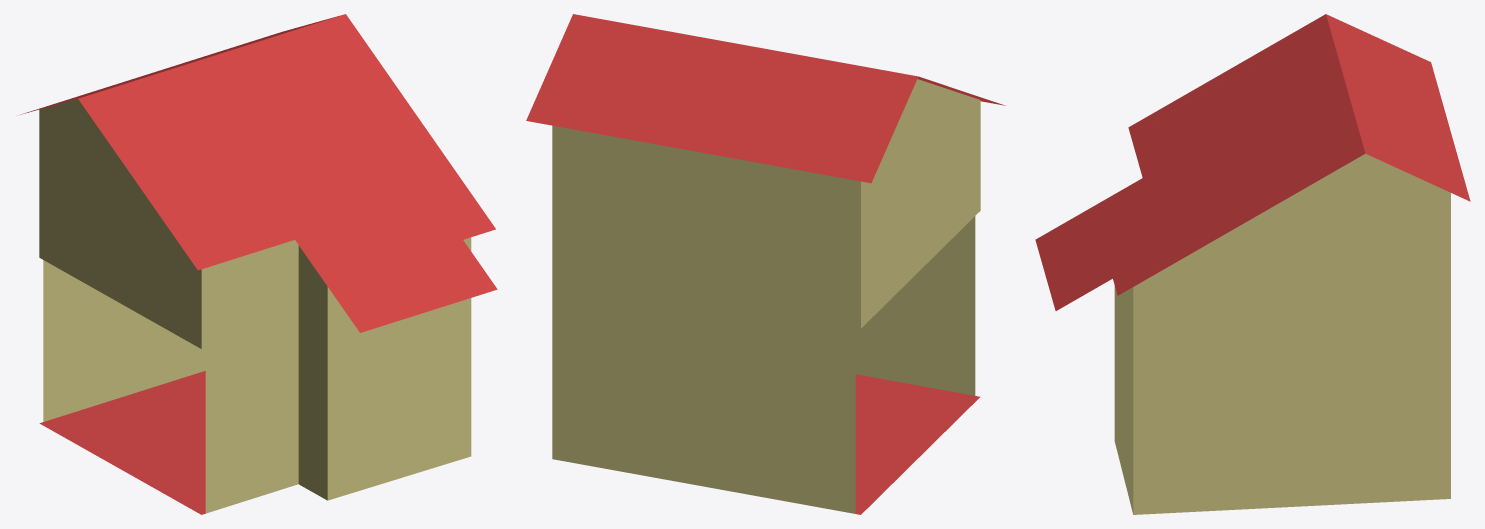
The picture shows the model from 3 angles, left to right: view 1: azimuth 30°, elevation 25°; view 2: azimuth 150°, elevation 25°; view 3: azimuth 270°, elevation 25°; orthographic projection. The views are drawn at different scales.
Size of the model in its own units: 10.47 by 12.23 by 11.07.
